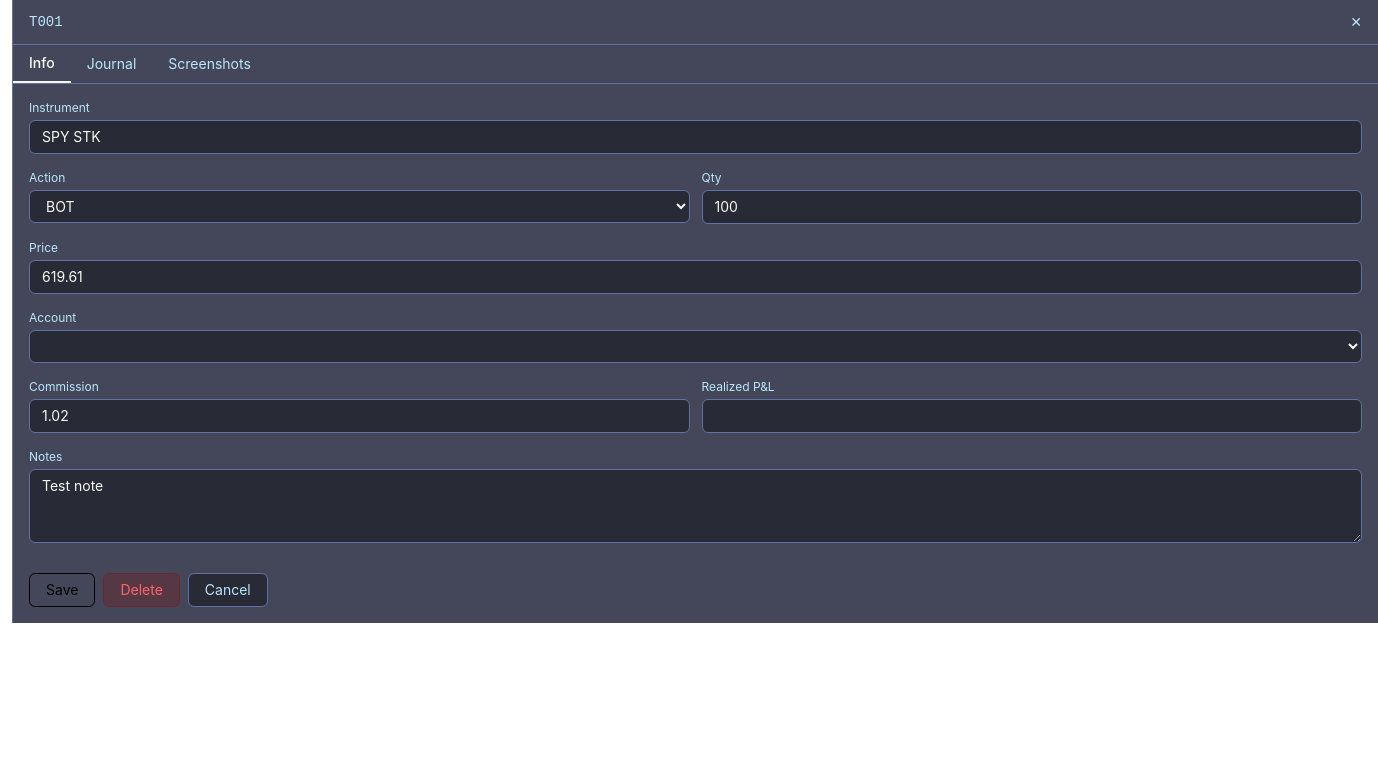
Test: TradeDetailPanel › G22-2: save button shows dirty indicators after field change
# Modify symbol to make form dirty
Replace the text in the field with test id "trade-symbol-input" with "TSLA STK" at (696, 137), box 29,120 -> 1362,154
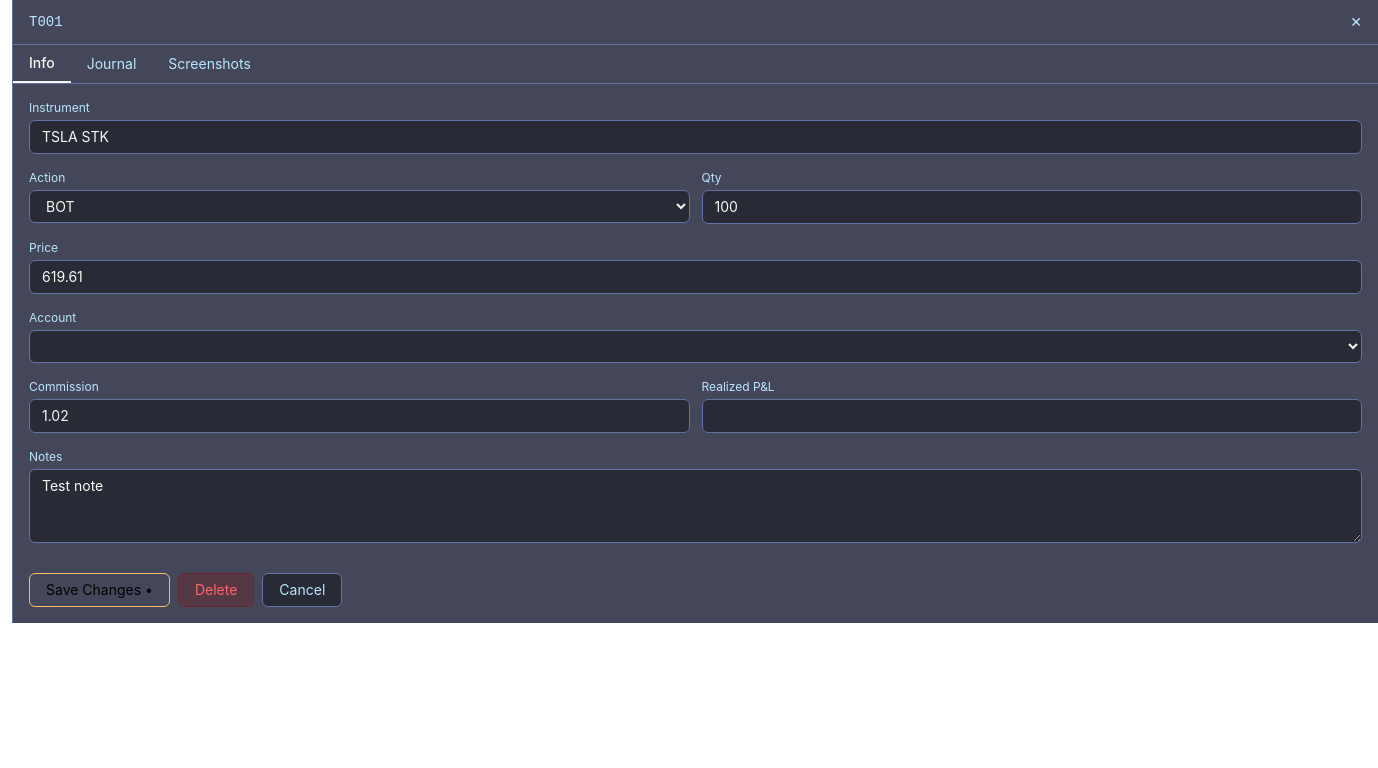
Result: the button with test id "trade-submit-btn" shows "•" at 29,573 -> 170,607
